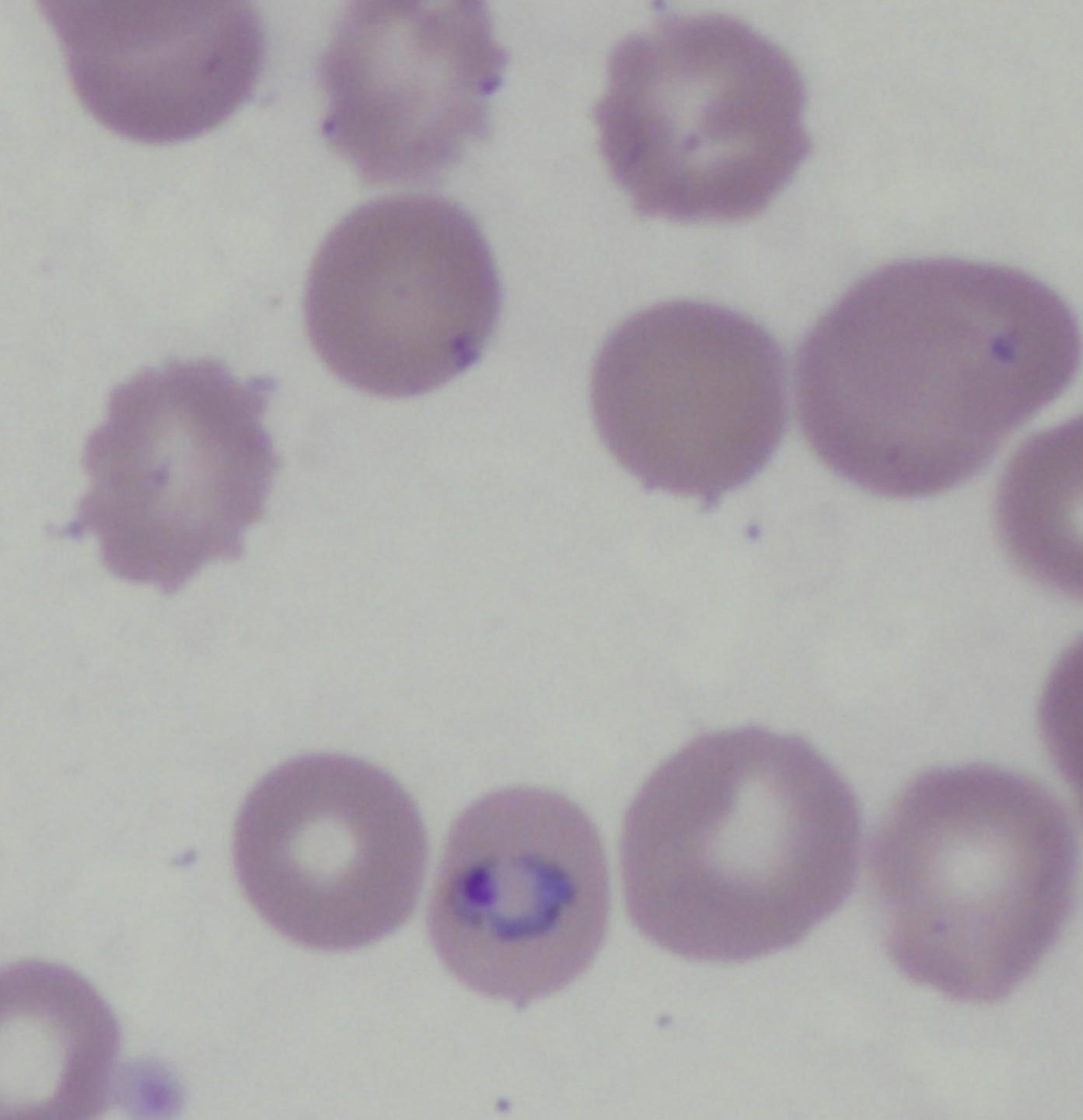Infected: (428, 788, 616, 1009)
Uninfected: (796, 250, 1075, 505), (622, 724, 854, 966), (861, 767, 1072, 999), (80, 356, 279, 598), (599, 6, 813, 223), (298, 193, 504, 399), (583, 301, 792, 501), (236, 755, 424, 952), (316, 0, 495, 188), (68, 0, 264, 143), (0, 957, 129, 1120)
